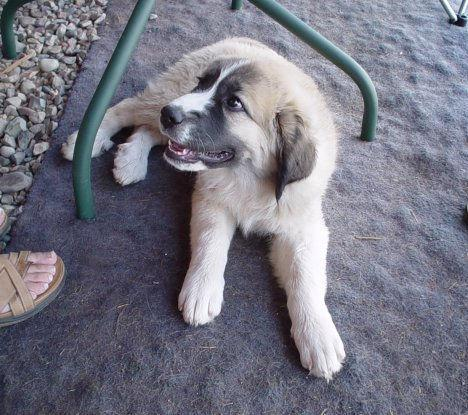Great_Pyrenees: (68, 31, 347, 383)
